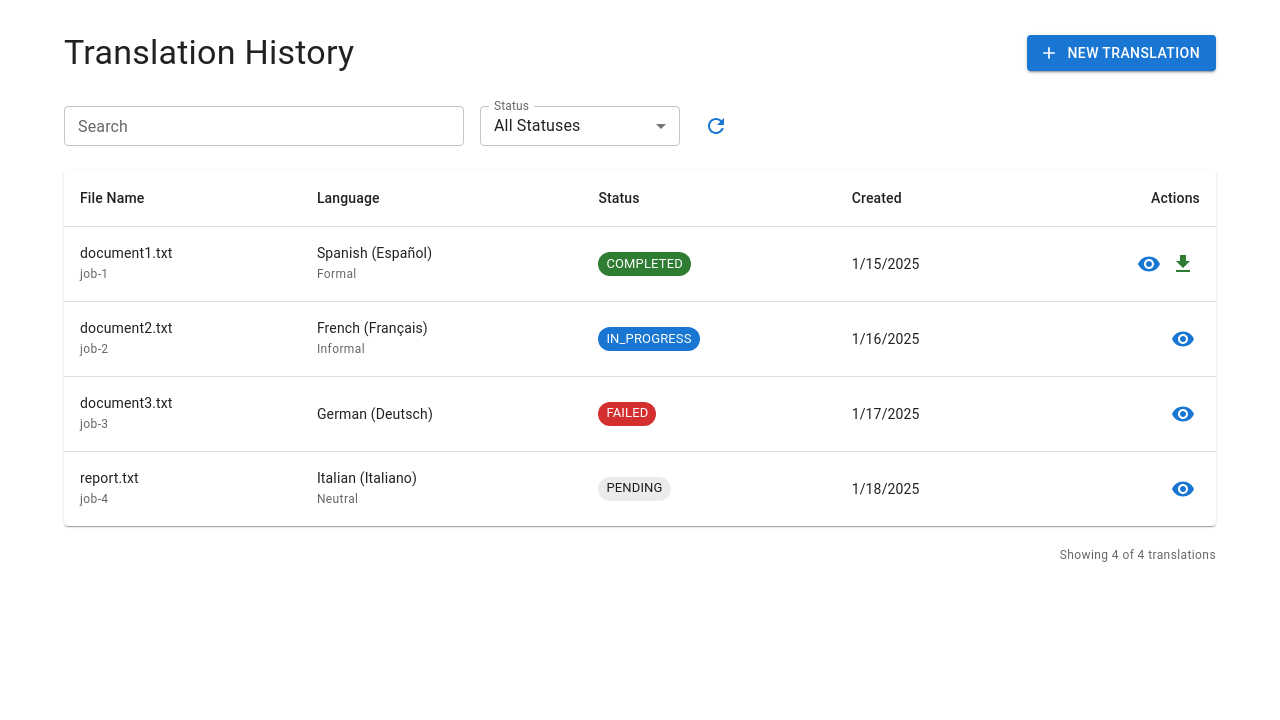
TranslationHistory › Filtering › should filter jobs by IN_PROGRESS status
Expected: the text "document1.txt" is shown, [80,245,173,261]
Click the dropdown labelled "All Statuses". click: (537, 126)
box: [494,116,580,136]
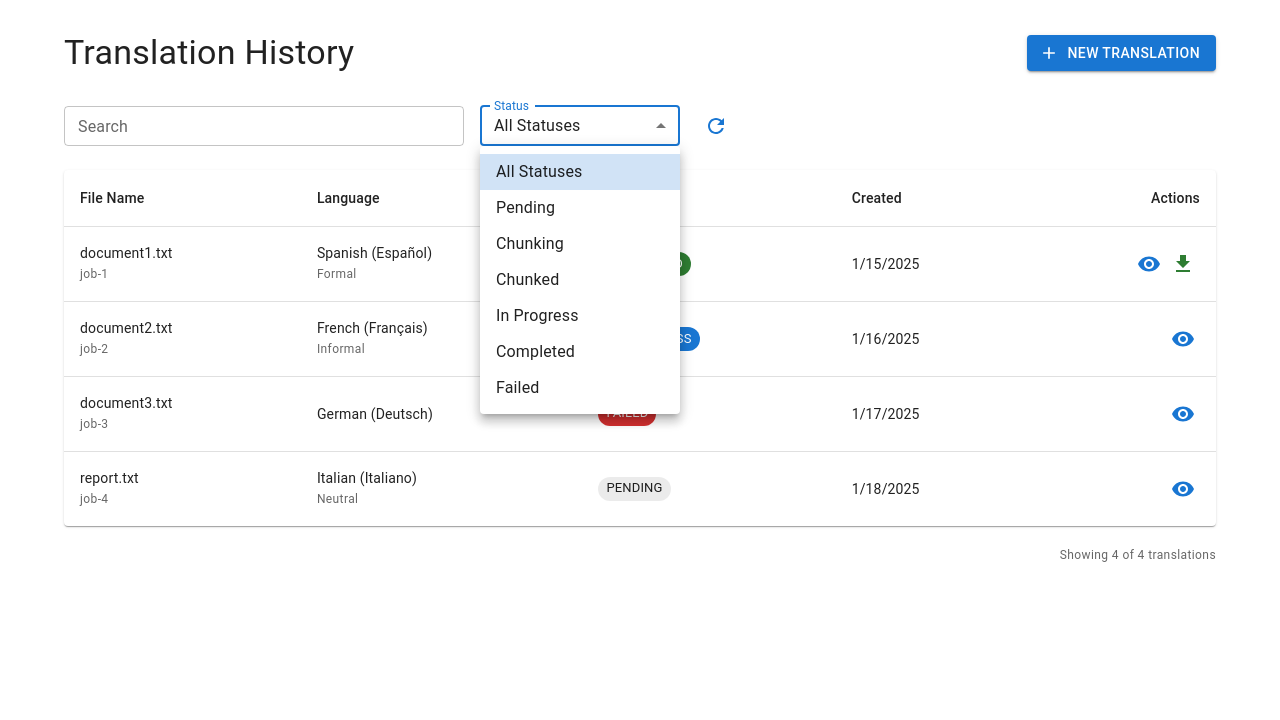
Click the option "In Progress". click: (537, 316)
box: [496,306,579,325]
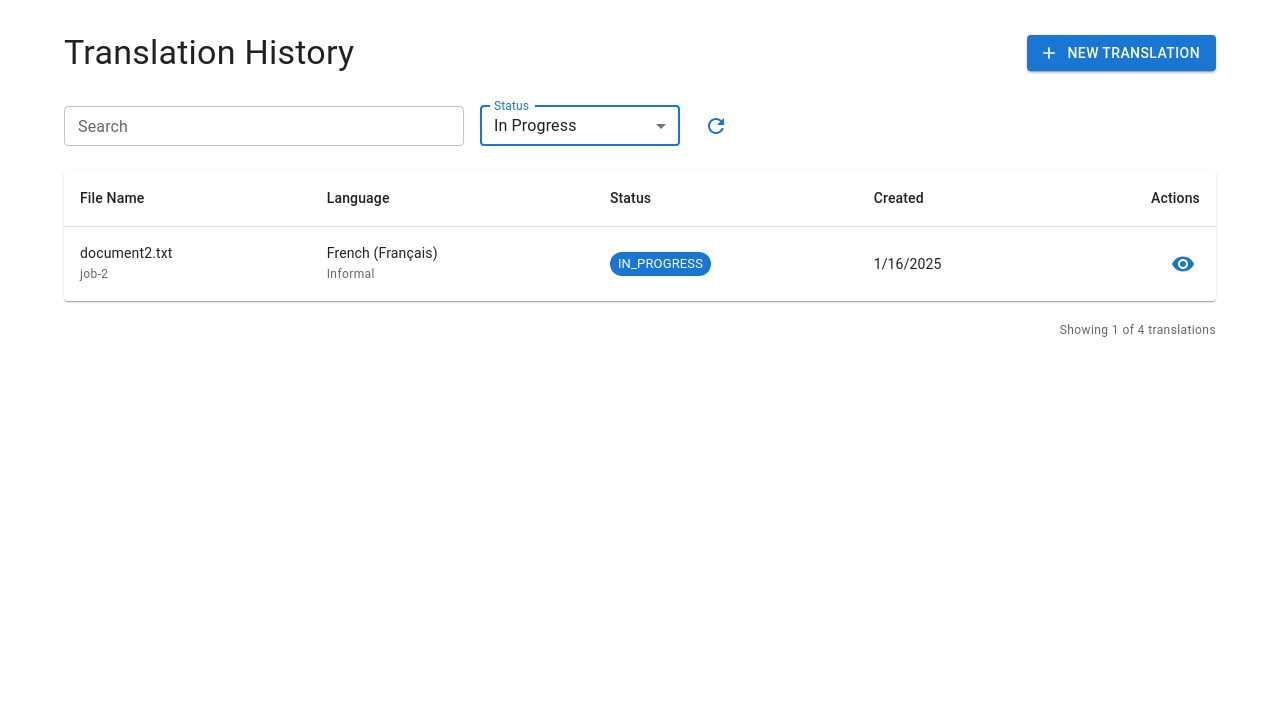
Expected: the text "document2.txt" is shown, [80,245,173,261]
Expected: the text "document1.txt" is gone
